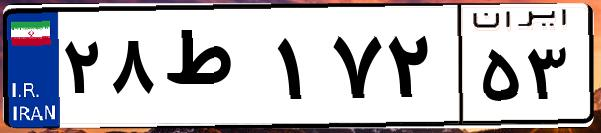1: (270, 28, 330, 110)
2: (385, 28, 445, 110), (57, 26, 110, 100)
3: (525, 38, 570, 115)
5: (475, 38, 525, 113)
7: (330, 28, 385, 110)
8: (110, 28, 158, 98)
ط: (158, 20, 270, 120)
